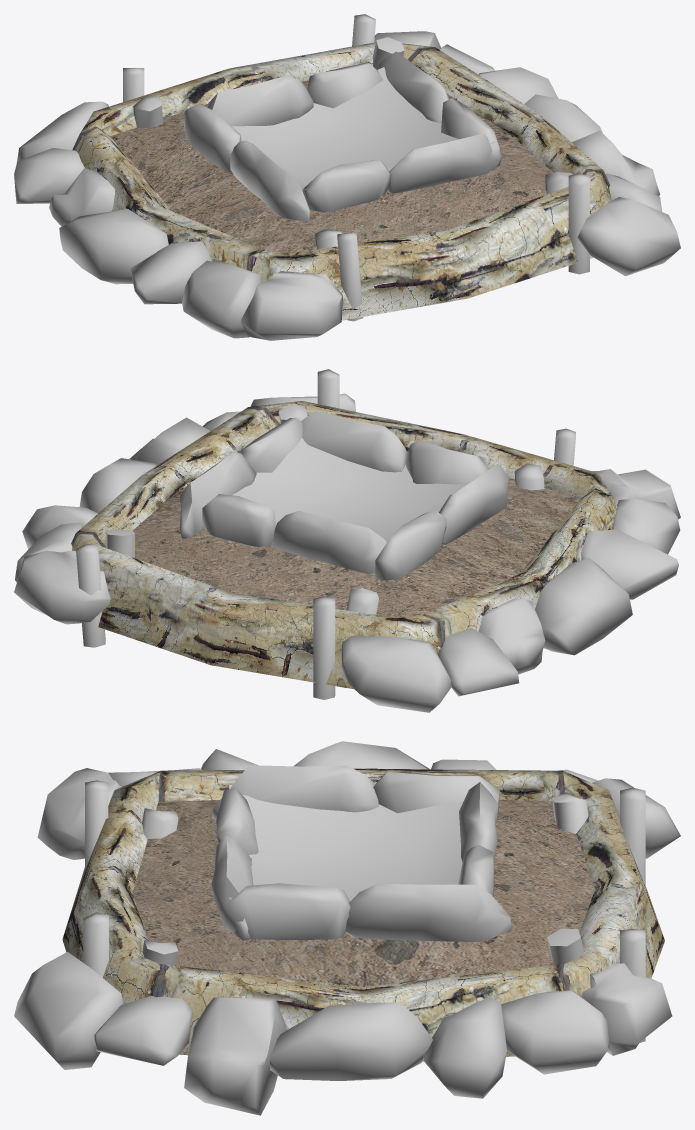
File: Fireplace_1.fbx
3 renders of one model, top to bottom at view 1: azimuth 30°, elevation 25°; view 2: azimuth 150°, elevation 25°; view 3: azimuth 270°, elevation 25°, orthographic. The views are drawn at different scales.
Parts seen in each view (by area): view 1: Cube_2, Cube, Cube_2_2, Cylinder_8; view 2: Cube_2, Cube, Cube_2_2, Cylinder_8; view 3: Cube_2, Cube, Cube_2_2, Cylinder_8.
Part boxes in pixels (x1,y1,x2,y2): Cube_2: (14, 31, 680, 340); Cube: (72, 42, 611, 320); Cube_2_2: (110, 80, 553, 253); Cylinder_8: (123, 14, 589, 321); Cube_2: (14, 393, 680, 712); Cube: (71, 401, 617, 688); Cube_2_2: (133, 451, 580, 617); Cylinder_8: (76, 369, 575, 699); Cube_2: (14, 741, 680, 1115); Cube: (62, 768, 664, 1061); Cube_2_2: (132, 799, 594, 986); Cylinder_8: (83, 780, 645, 1042).
Size of the model in its own units: 274 by 63.44 by 253.
